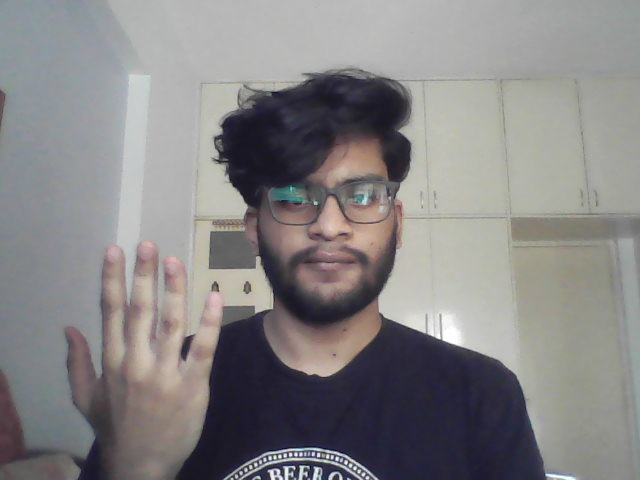Goodbye: (62, 239, 224, 460)
